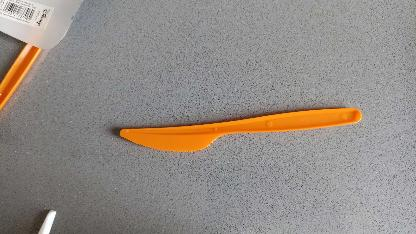Others: (113, 106, 365, 154)
